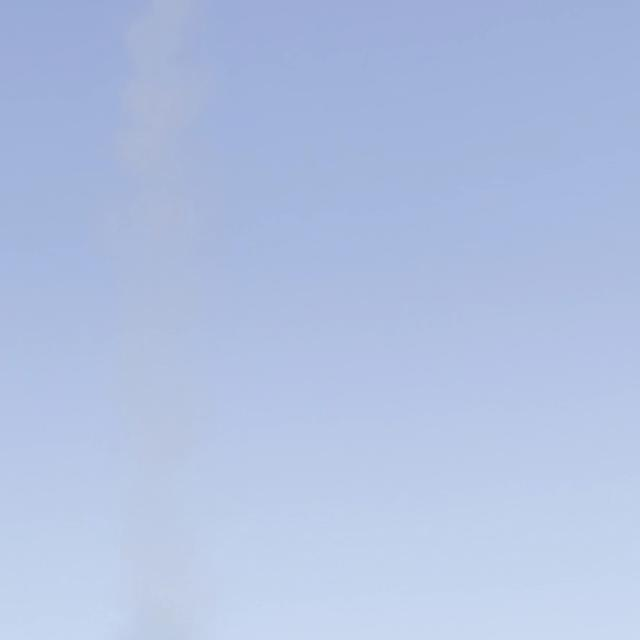smoke_trail_with_rocket: (117, 0, 210, 640)
